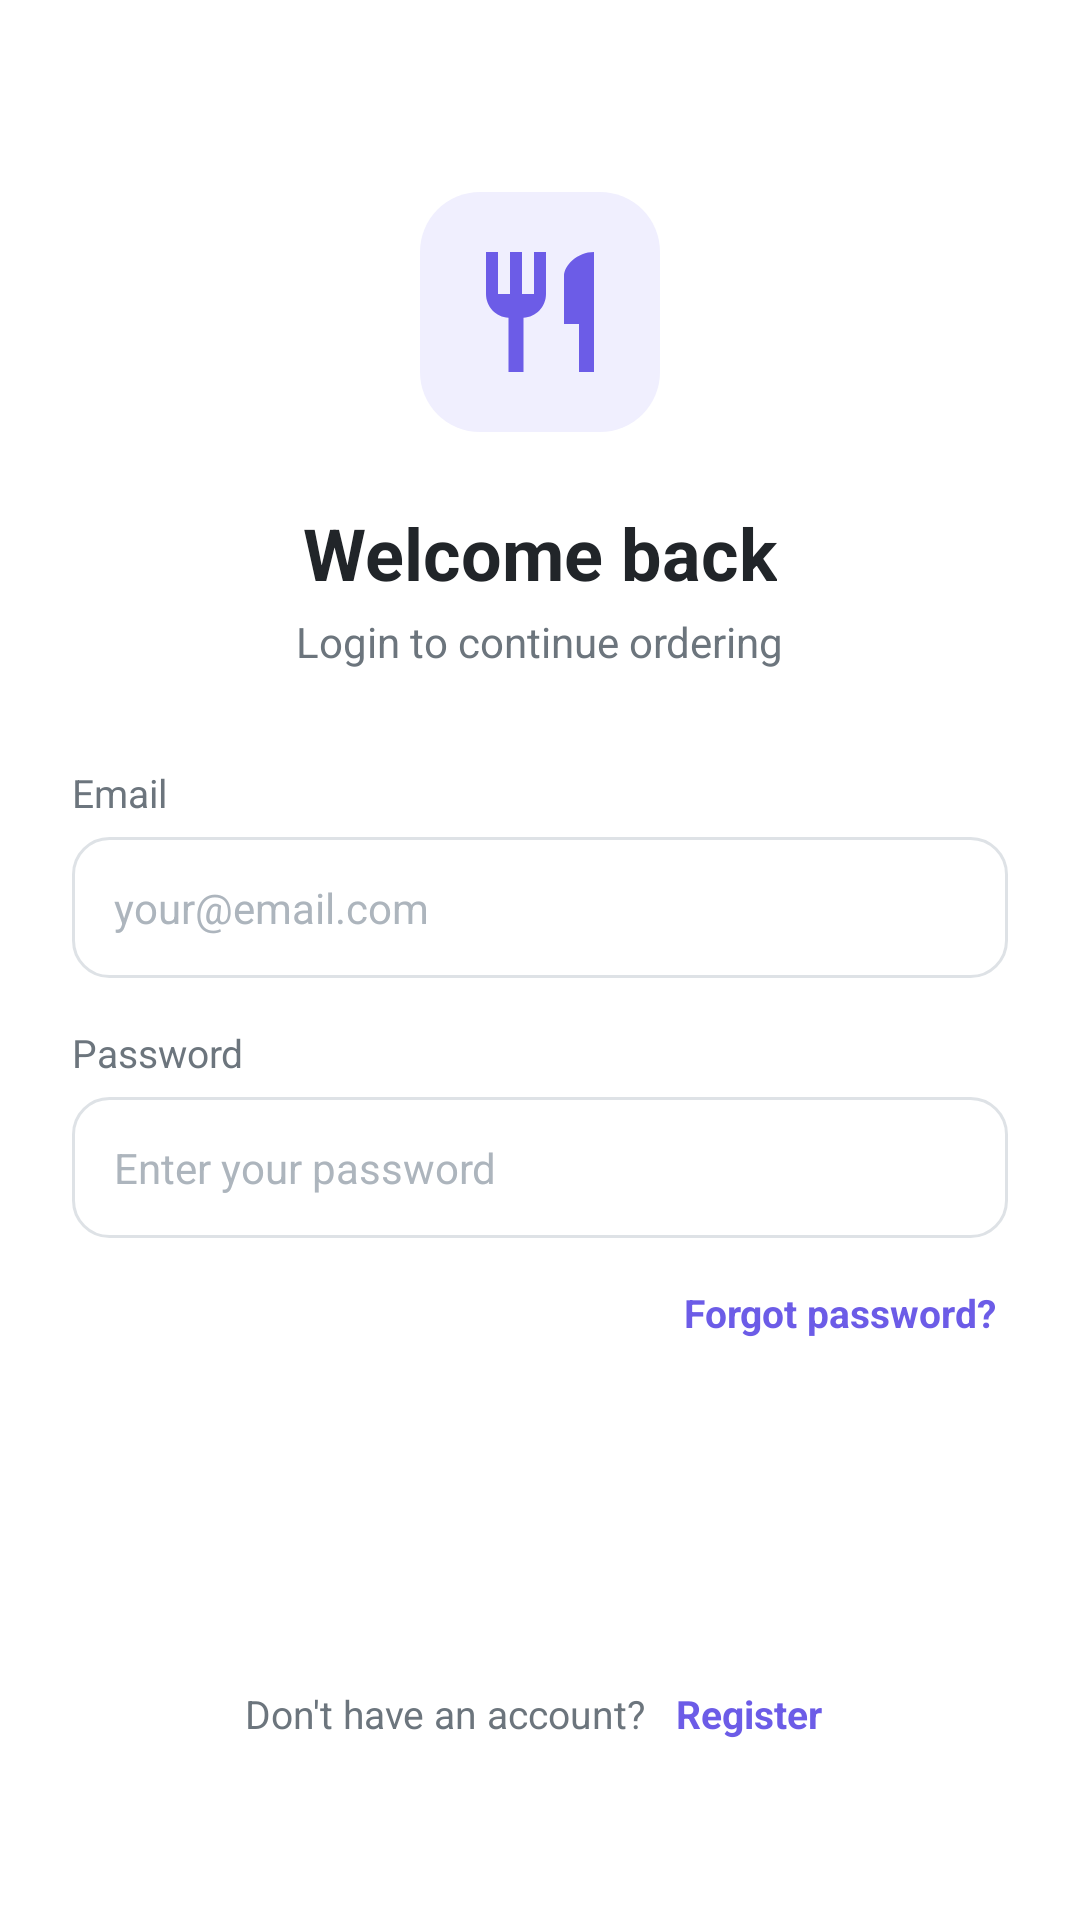

Locate icon controls on the screen. Image size 1080×1920, boxes as (x1, y1, x2, y2).
food: (420, 192, 660, 432)
